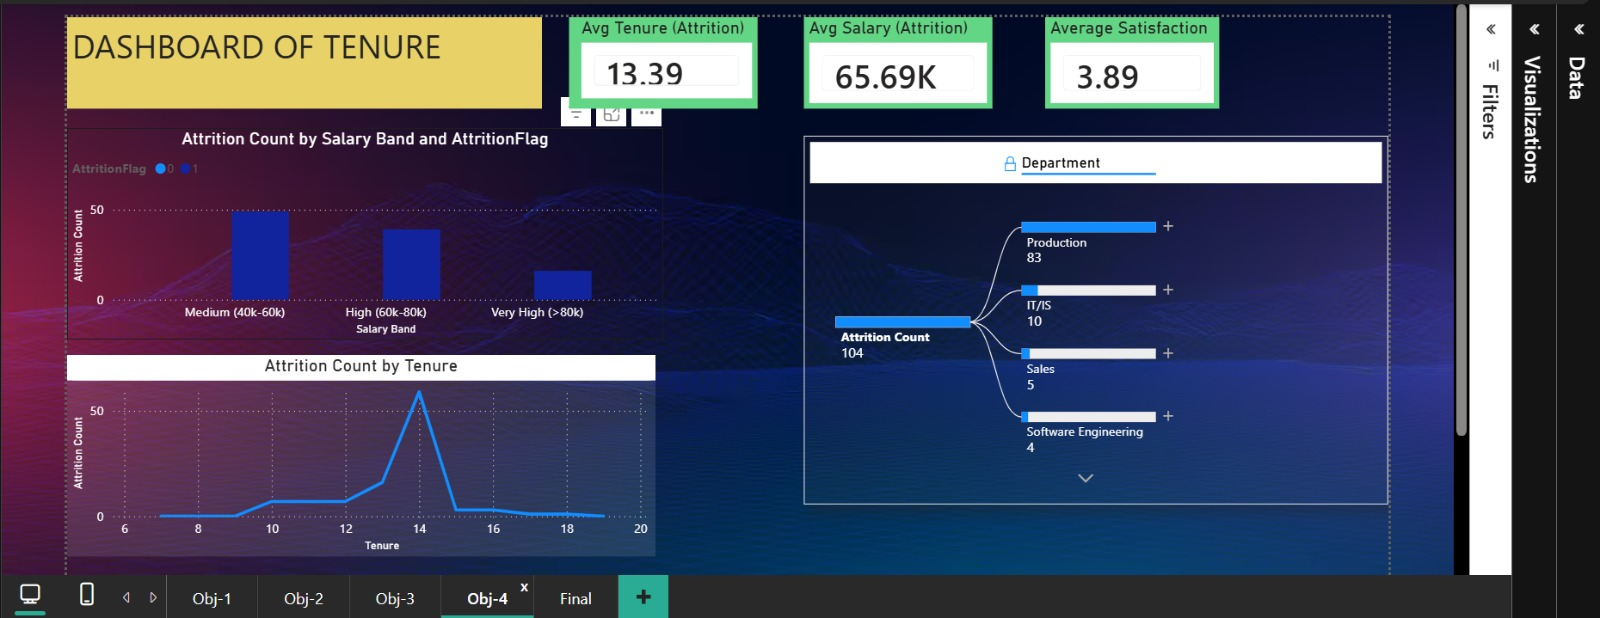

Layout of this report page (visuals, bound fields, positions):
{"tool":"powerbi","page":{"name":"Obj-4","canvas":[1280,720],"ordinal":3},"visuals":[{"type":"clusteredColumnChart","fields":{"Category":["HRDataset_v14.Salary Band"],"Y":["HRDataset_v14.Attrition Count"],"Series":["HRDataset_v14.AttritionFlag"]},"box":[0,107.5,577.5,205],"z":0},{"type":"decompositionTreeVisual","fields":{"ExplainBy":["HRDataset_v14.Department","HRDataset_v14.EmpSatisfaction","HRDataset_v14.EngagementSurvey","HRDataset_v14.Absences","HRDataset_v14.Position","HRDataset_v14.Age Group","HRDataset_v14.Salary","HRDataset_v14.Tenure"],"Analyze":["HRDataset_v14.Attrition Count"]},"box":[713.8,115,566.2,357.5],"z":1000},{"type":"lineChart","fields":{"Category":["HRDataset_v14.Tenure"],"Y":["HRDataset_v14.Attrition Count"]},"box":[0,327.5,570,195],"z":2000},{"type":"cardVisual","title":"Avg Salary (Attrition)","fields":{"Data":["HRDataset_v14.Avg Salary (Attrition)"]},"box":[713.8,0,182.5,88.8],"z":3000},{"type":"cardVisual","title":"Average Satisfaction","fields":{"Data":["HRDataset_v14.Average Satisfaction"]},"box":[947.5,0,168.8,88.8],"z":4000},{"type":"cardVisual","title":"Avg Tenure (Attrition)","fields":{"Data":["HRDataset_v14.Avg Tenure (Attrition)"]},"box":[486.2,0,182.5,88.8],"z":5000},{"type":"textbox","box":[714,570,566,150],"z":6000},{"type":"textbox","box":[0,0,460,88.8],"z":7000}]}

Visuals, with their boxes on the page's 1280x720 design canvas (x1, y1, x2, y2). These are canvas units, not pixel positions in the 1600x618 screenshot, which may show the page scaled, cropped or inside an application window:
clusteredColumnChart - HRDataset_v14.Salary Band x HRDataset_v14.Attrition Count: [left=0, top=108, right=578, bottom=312]
decompositionTreeVisual - HRDataset_v14.Department x HRDataset_v14.EmpSatisfaction: [left=714, top=115, right=1280, bottom=472]
lineChart - HRDataset_v14.Tenure x HRDataset_v14.Attrition Count: [left=0, top=328, right=570, bottom=522]
"Avg Salary (Attrition)" cardVisual: [left=714, top=0, right=896, bottom=89]
"Average Satisfaction" cardVisual: [left=948, top=0, right=1116, bottom=89]
"Avg Tenure (Attrition)" cardVisual: [left=486, top=0, right=669, bottom=89]
textbox: [left=714, top=570, right=1280, bottom=720]
textbox: [left=0, top=0, right=460, bottom=89]
